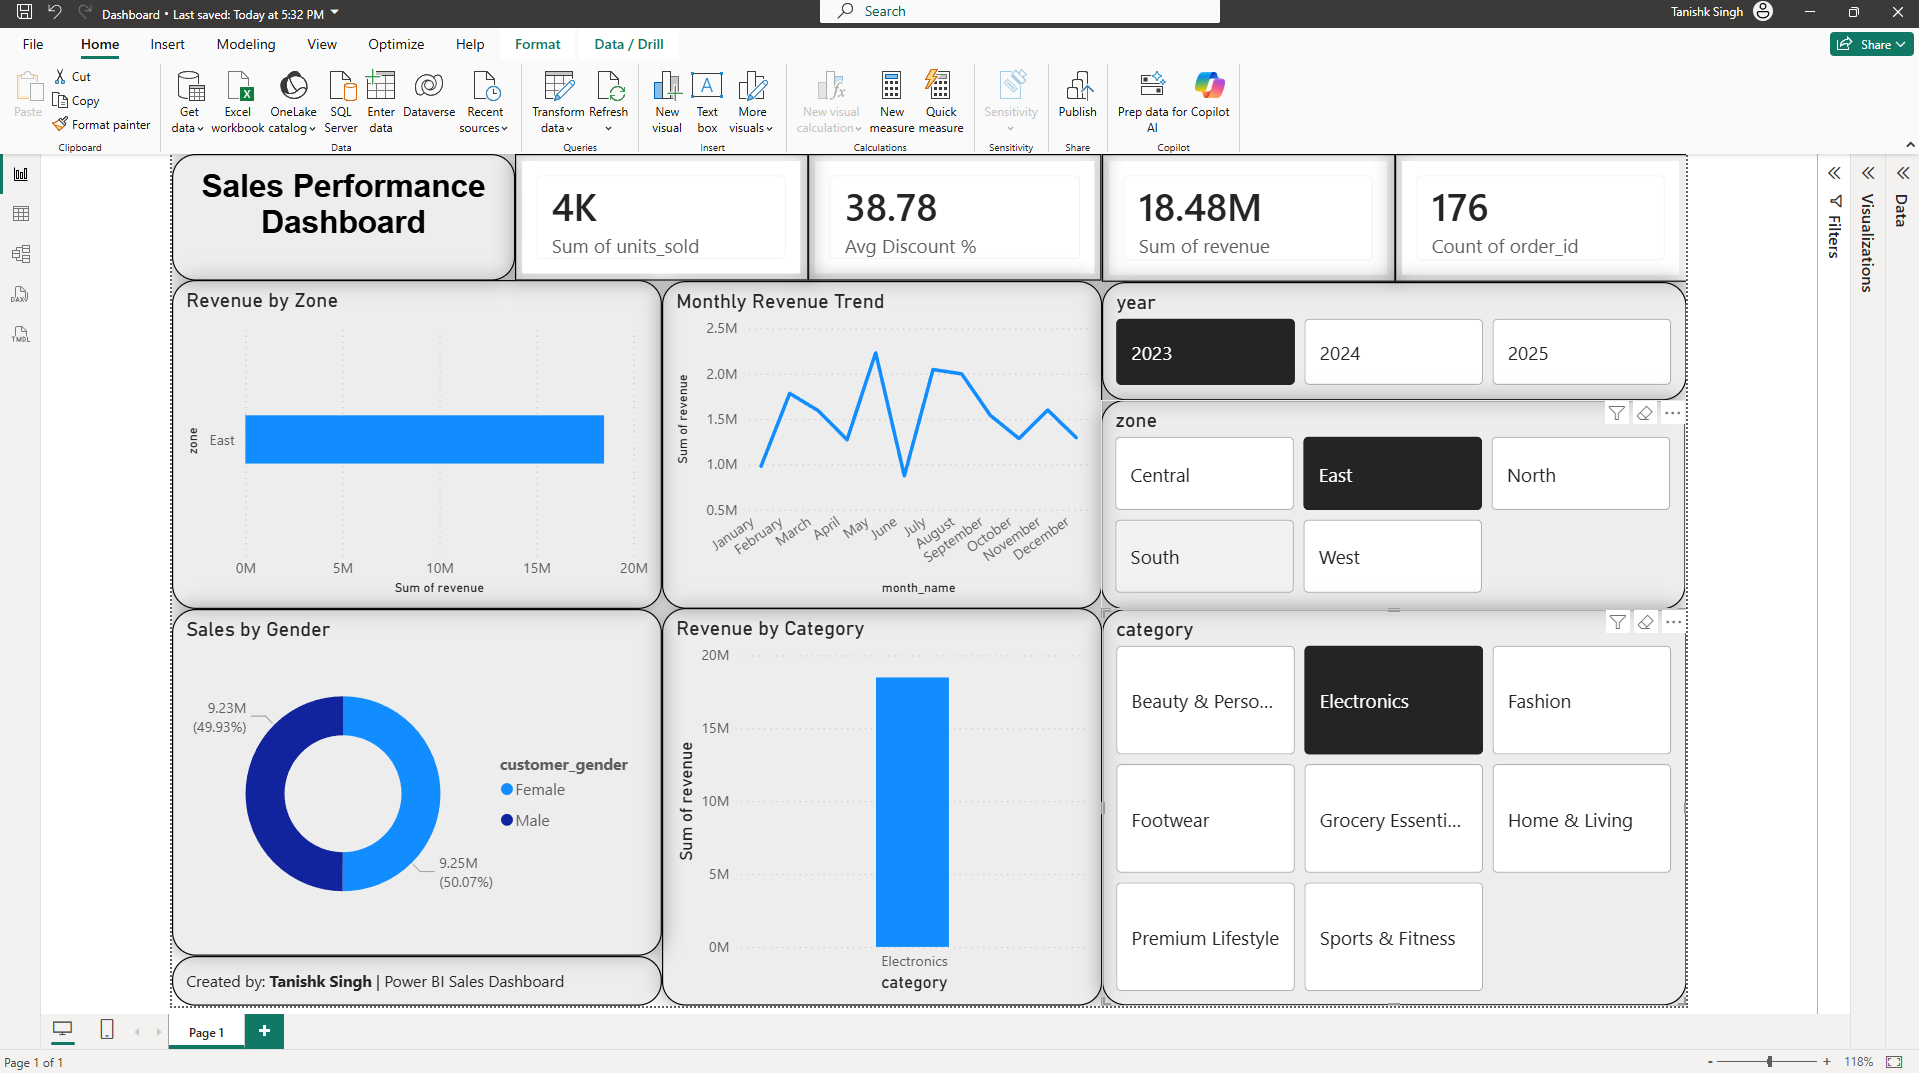

What the dashboard file says about the page in this screenshot:
{"tool":"powerbi","page":{"name":"Page 1","canvas":[1280,720],"ordinal":0},"visuals":[{"type":"cardVisual","fields":{"Data":["Sum(final_cleaned_dataset.revenue)"]},"box":[785.9,0,247.6,108.2],"z":0},{"type":"cardVisual","fields":{"Data":["Count(final_cleaned_dataset.order_id)"]},"box":[1033.5,0,246.8,108.2],"z":1000},{"type":"cardVisual","fields":{"Data":["Avg(final_cleaned_dataset.discount_percent)"]},"box":[537.5,0,248.5,107.3],"z":2000},{"type":"columnChart","title":"Revenue by Category","fields":{"Category":["final_cleaned_dataset.category"],"Y":["Sum(final_cleaned_dataset.revenue)"]},"box":[414,383.8,371.8,336.4],"z":3000},{"type":"barChart","title":"Revenue by Zone","fields":{"Category":["final_cleaned_dataset.zone"],"Y":["Sum(final_cleaned_dataset.revenue)"]},"box":[0,106.1,414,277.7],"z":4000},{"type":"lineChart","title":"Monthly Revenue Trend","fields":{"Category":["final_cleaned_dataset.month_name"],"Y":["Sum(final_cleaned_dataset.revenue)"]},"box":[414.1,107.3,371.8,277.2],"z":5000},{"type":"donutChart","title":"Sales by Gender","fields":{"Category":["final_cleaned_dataset.customer_gender"],"Y":["Sum(final_cleaned_dataset.total_sales)"]},"box":[0,384.7,414,293.3],"z":6000},{"type":"advancedSlicerVisual","fields":{"Values":["final_cleaned_dataset.year"]},"box":[785.9,108.2,494.4,99.7],"z":7000},{"type":"advancedSlicerVisual","fields":{"Values":["final_cleaned_dataset.zone"]},"box":[785.1,207.9,494.4,176.6],"z":8000},{"type":"advancedSlicerVisual","fields":{"Values":["final_cleaned_dataset.category"]},"box":[785.9,384.5,494.4,335.5],"z":9000},{"type":"textbox","box":[0,0,289.9,107.3],"z":10000},{"type":"cardVisual","fields":{"Data":["Sum(final_cleaned_dataset.units_sold)"]},"box":[289.9,0,247.6,107.3],"z":11000},{"type":"textbox","box":[0,678,414,42.3],"z":11001}]}

Visuals, with their boxes on the page's 1280x720 design canvas (x1, y1, x2, y2). These are canvas units, not pixel positions in the 1919x1073 screenshot, which may show the page scaled, cropped or inside an application window:
cardVisual - Sum(final_cleaned_dataset.revenue): rect(786, 0, 1034, 108)
cardVisual - Count(final_cleaned_dataset.order_id): rect(1034, 0, 1280, 108)
cardVisual - Avg(final_cleaned_dataset.discount_percent): rect(538, 0, 786, 107)
"Revenue by Category" columnChart: rect(414, 384, 786, 720)
"Revenue by Zone" barChart: rect(0, 106, 414, 384)
"Monthly Revenue Trend" lineChart: rect(414, 107, 786, 384)
"Sales by Gender" donutChart: rect(0, 385, 414, 678)
advancedSlicerVisual - final_cleaned_dataset.year: rect(786, 108, 1280, 208)
advancedSlicerVisual - final_cleaned_dataset.zone: rect(785, 208, 1280, 384)
advancedSlicerVisual - final_cleaned_dataset.category: rect(786, 384, 1280, 720)
textbox: rect(0, 0, 290, 107)
cardVisual - Sum(final_cleaned_dataset.units_sold): rect(290, 0, 538, 107)
textbox: rect(0, 678, 414, 720)
